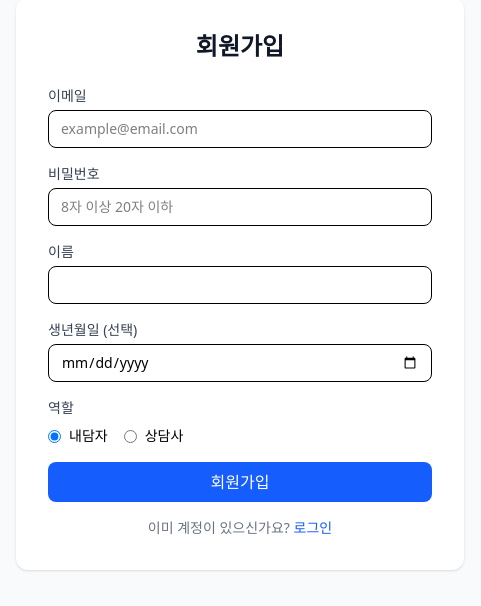
Test: SignupPage › 이메일 중복(409)으로 회원가입 실패 시 에러 문구를 표시하고 인증되지 않는다
Step 1. Type "duplicate@example.com" into the field labelled "이메일" → (240, 129), box top-left (48, 110), bottom-right (432, 148)
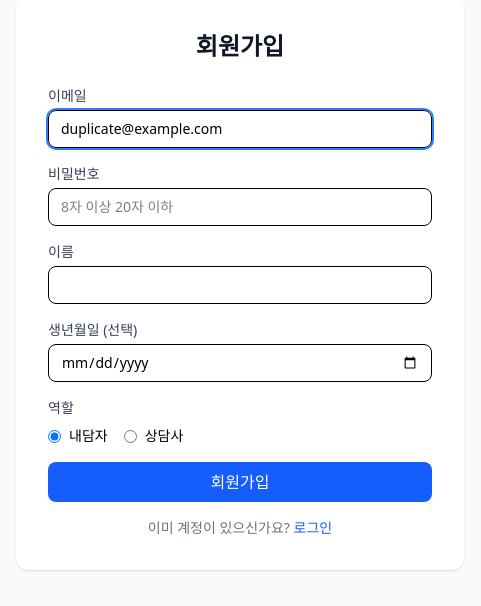
Step 2. Type "password123" into the password field labelled "비밀번호" → (240, 207), box top-left (48, 188), bottom-right (432, 226)
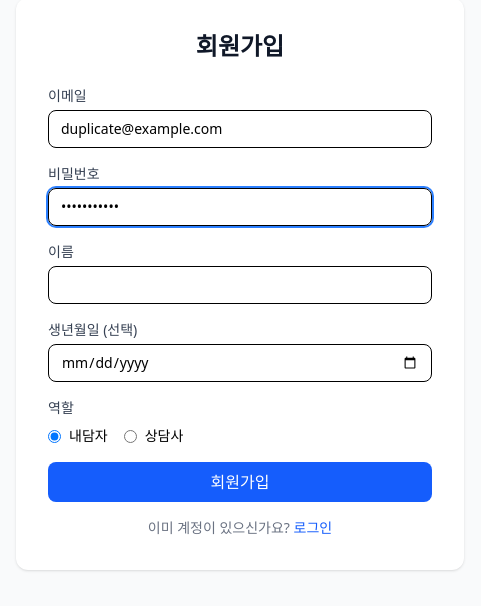
Step 3. Type "홍길동" into the field labelled "이름" → (240, 285), box top-left (48, 266), bottom-right (432, 304)
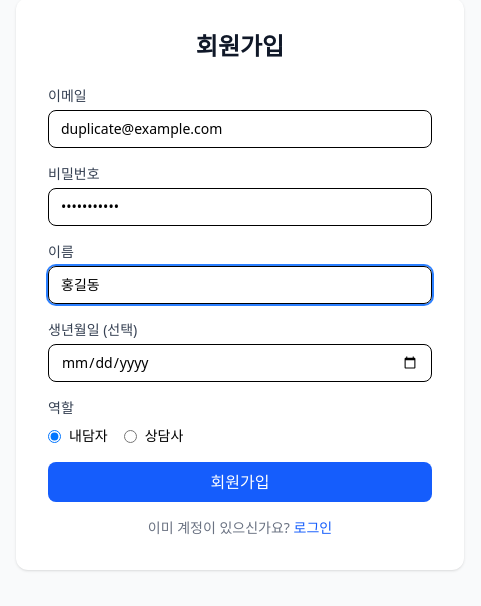
Step 4. Click the radio button labelled "내담자" → (54, 436), box top-left (48, 430), bottom-right (61, 442)
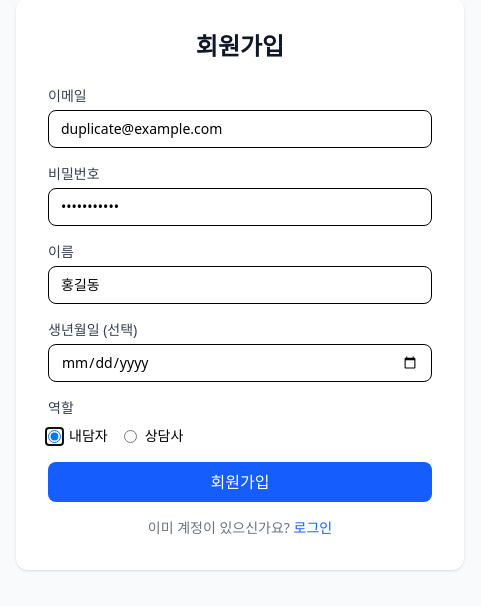
Step 5. Click the button "회원가입" → (240, 482), box top-left (48, 462), bottom-right (432, 502)
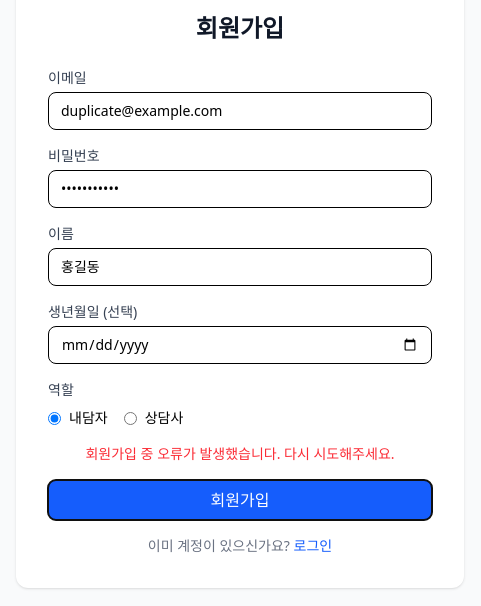
Expected: the text "회원가입 중 오류가 발생했습니다. 다시 시도해주세요." is shown, top-left (86, 444), bottom-right (395, 463)
